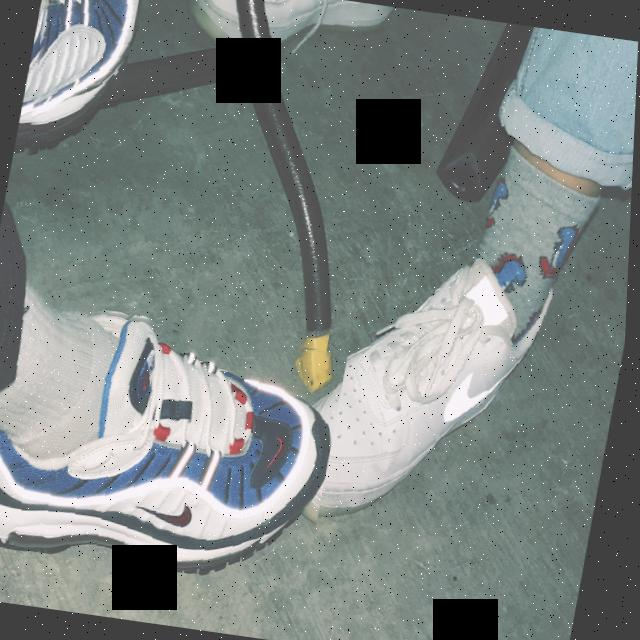shoe: (0, 290, 355, 590), (299, 240, 566, 548), (14, 0, 143, 172), (182, 0, 403, 68)
